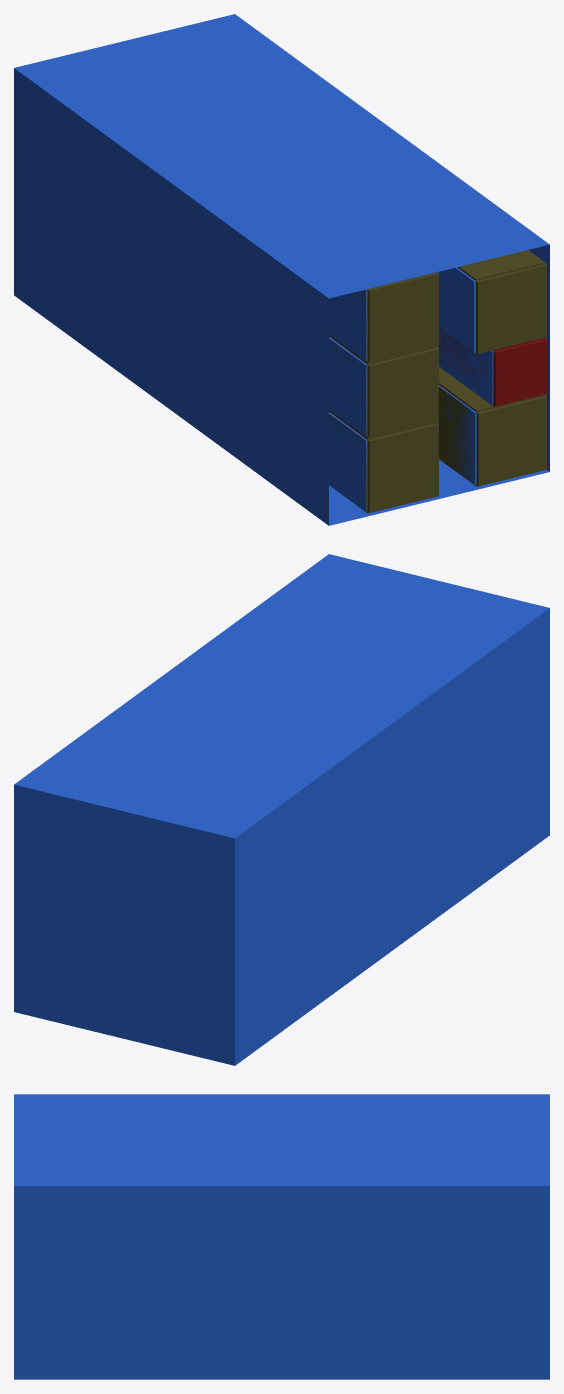
File: Bins.fbx
The picture shows the model from 3 angles, top to bottom: view 1: azimuth 30°, elevation 25°; view 2: azimuth 150°, elevation 25°; view 3: azimuth 270°, elevation 25°; orthographic projection. The views are drawn at different scales.
Visible parts, largest first — view 1: BinIso20Bottom, bintop, binleft, front_10, front_11, front_12, front_5, front_14, front_13, left_5, binbottom, top_14 (+2 smaller); view 2: BinIso20Bottom, bintop, binback; view 3: BinIso20Bottom, binright, bintop.
Part boxes in pixels (left/top/right/bottom): BinIso20Bottom: left=14, top=74, right=549, bottom=525; bintop: left=14, top=14, right=549, bottom=298; binleft: left=14, top=68, right=324, bottom=515; front_10: left=367, top=423, right=438, bottom=512; front_11: left=367, top=348, right=438, bottom=437; front_12: left=367, top=272, right=438, bottom=362; front_5: left=476, top=396, right=546, bottom=486; front_14: left=476, top=264, right=546, bottom=353; front_13: left=493, top=339, right=547, bottom=406; left_5: left=437, top=385, right=474, bottom=482; binbottom: left=329, top=459, right=549, bottom=525; top_14: left=457, top=250, right=544, bottom=280; BinIso20Bottom: left=235, top=608, right=549, bottom=1065; bintop: left=14, top=554, right=549, bottom=838; binback: left=14, top=784, right=234, bottom=1065; BinIso20Bottom: left=14, top=1186, right=549, bottom=1379; binright: left=14, top=1192, right=549, bottom=1379; bintop: left=14, top=1094, right=549, bottom=1185.
Size of the model in its own units: 2390 by 2350 by 5900.
